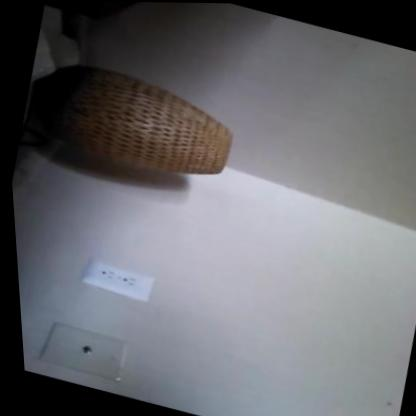OUTLET: (79, 255, 159, 303)
